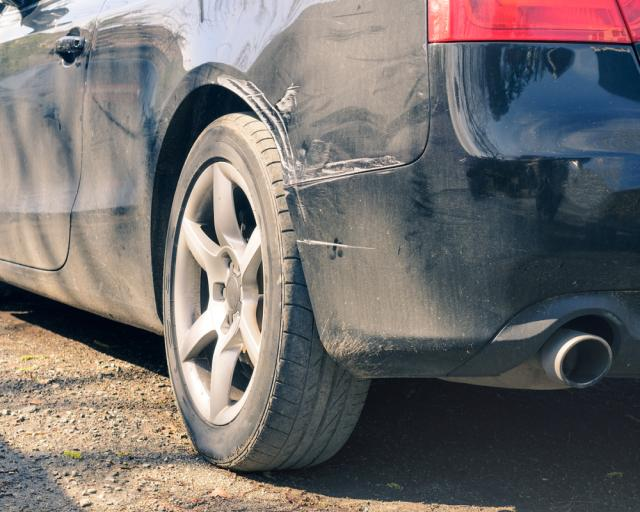scratch: (216, 75, 408, 187), (293, 237, 377, 254)
